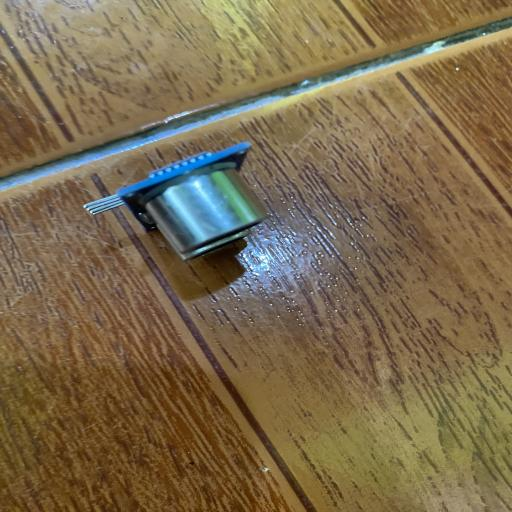Ultrasonic Sensor: (82, 138, 266, 263)
